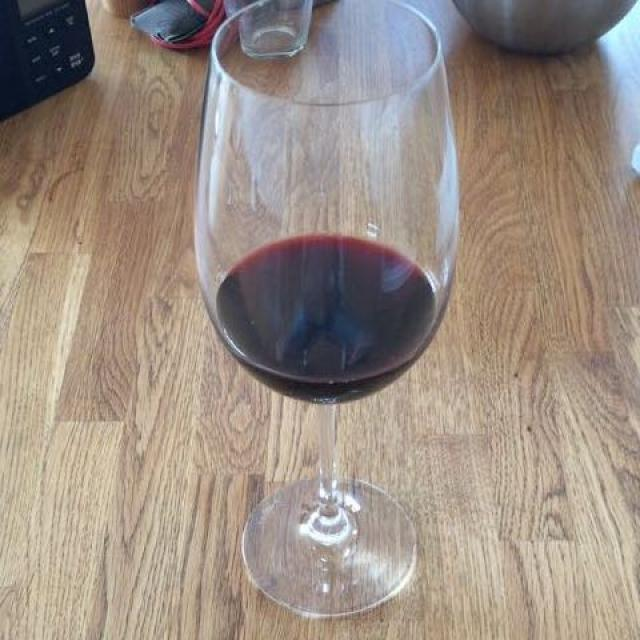wine: (218, 235, 435, 378)
